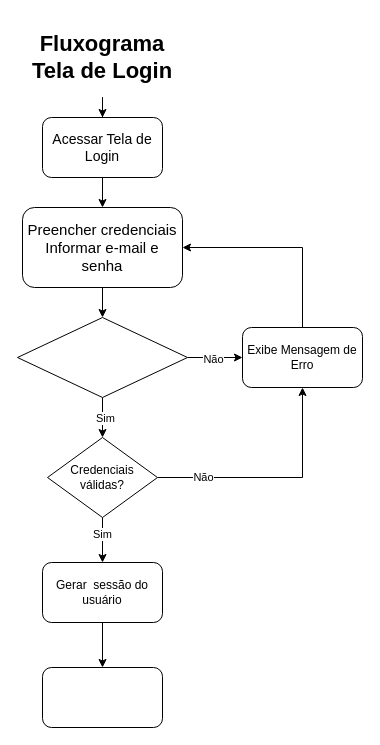
Image size: 380x745. Some labels were removed from this diagram. Each missing label, with the centre of its shape:
"Campos preenchidos?" goes at (x=102, y=357).
"Redireciona para a tela principal" goes at (x=102, y=697).
